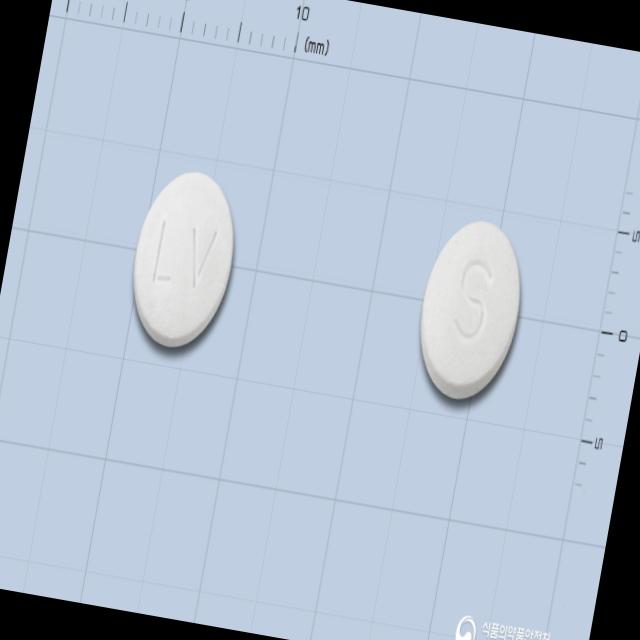Levobacter: (119, 160, 248, 356), (408, 210, 535, 408)
